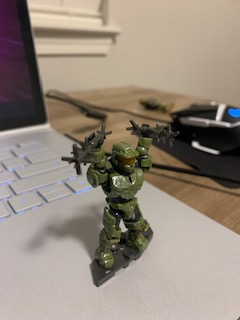chief: (86, 124, 154, 270)
spartan: (84, 122, 152, 268)
up: (86, 124, 155, 202)
